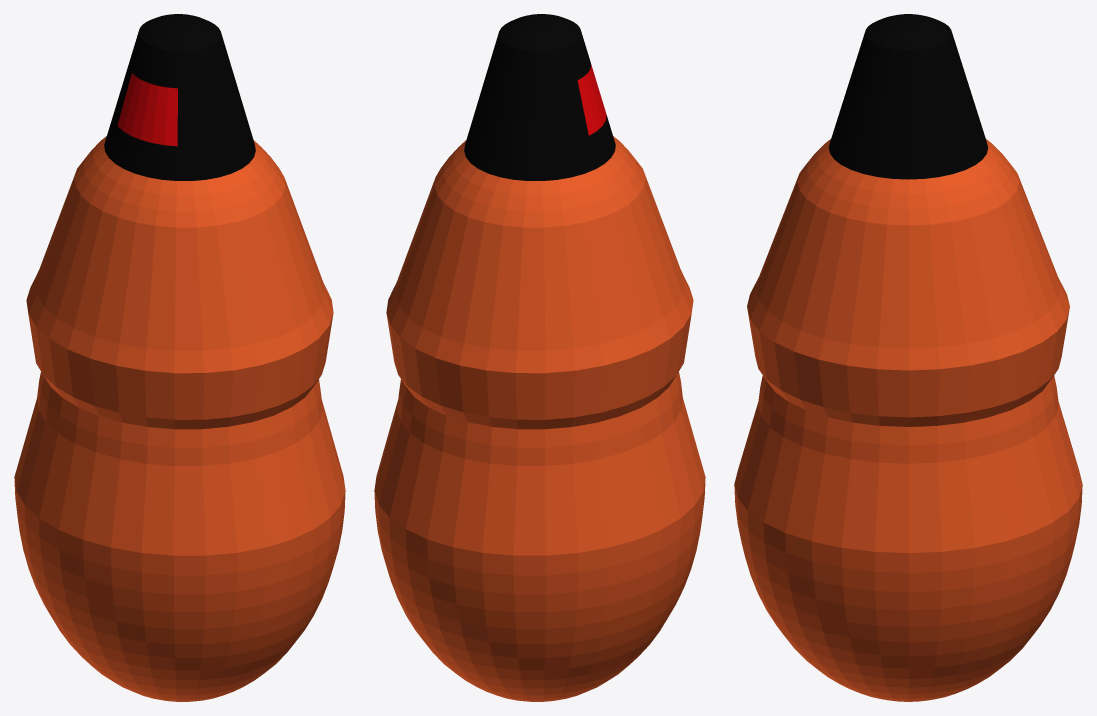
Rendered from Buoy.fbx.
3 renders of one model, left to right at view 1: azimuth 30°, elevation 25°; view 2: azimuth 150°, elevation 25°; view 3: azimuth 270°, elevation 25°, orthographic.
Parts seen in each view (by area): view 1: Sphere, Sphere.001; view 2: Sphere, Sphere.001; view 3: Sphere, Sphere.001.
Part boxes in pixels (bbox=[...]): Sphere: bbox=[14, 136, 345, 701]; Sphere.001: bbox=[104, 14, 255, 180]; Sphere: bbox=[374, 136, 705, 701]; Sphere.001: bbox=[464, 14, 615, 180]; Sphere: bbox=[734, 139, 1082, 701]; Sphere.001: bbox=[828, 14, 988, 179].
Bounding box in the file's own units: 143 × 325 × 153.
